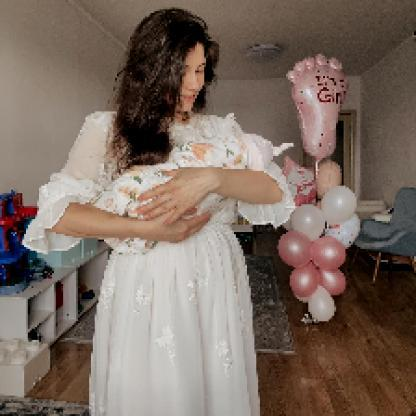child: (94, 132, 274, 259)
